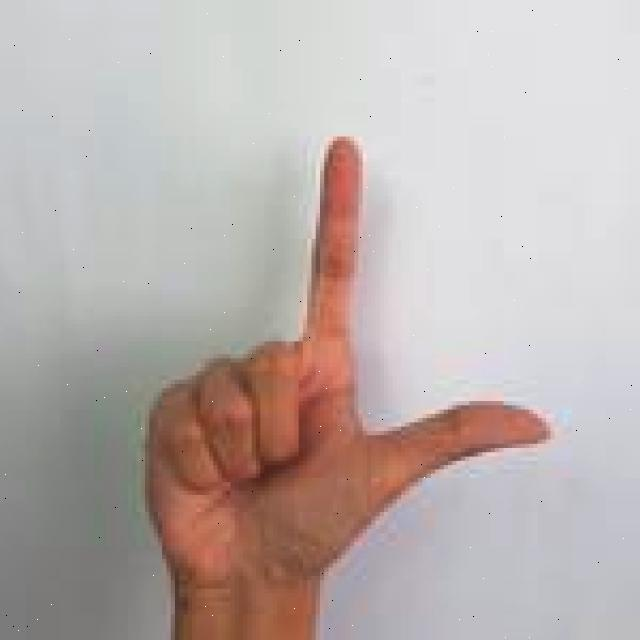L: (130, 130, 559, 640)
